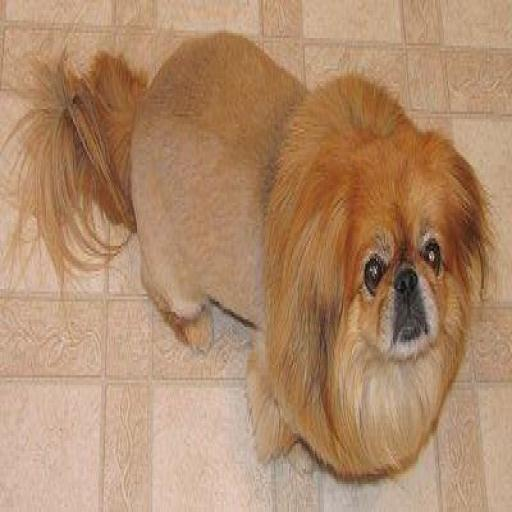dog_face: (297, 137, 497, 390)
